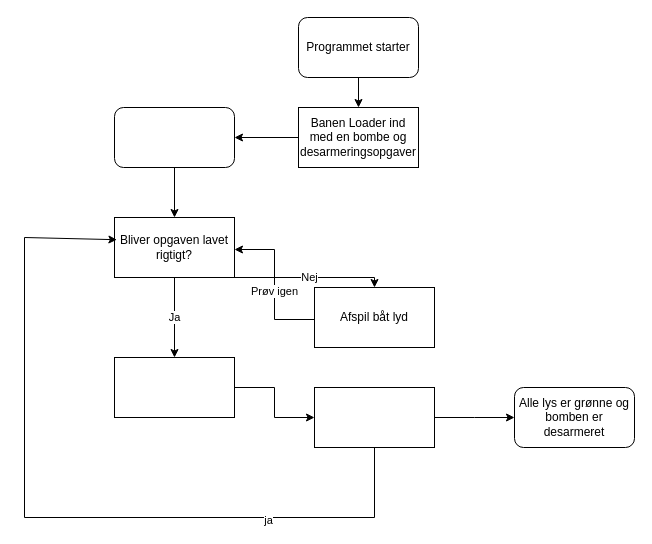
This 652x544 diagram has some shape labels left out. The shapes that lost their labels are listed below. From the top down, each one's centre as x and y in pixels, then its label:
At point (174, 137): "Lys tænder i forhold til hvor mange opgaver der skal laves".
At point (174, 387): "Afspil bing lyd og lav lys til grønt".
At point (374, 417): "Er der flere opgaver?".
